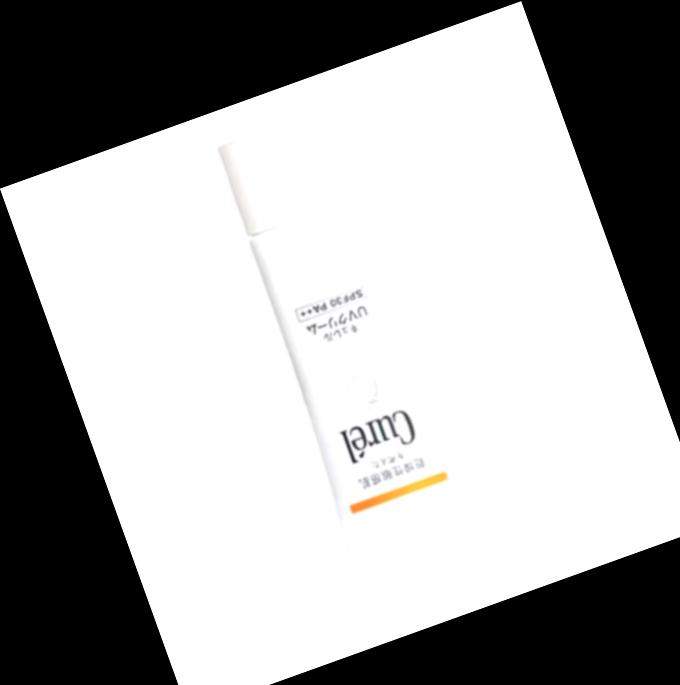cosmetic: (199, 104, 497, 591)
